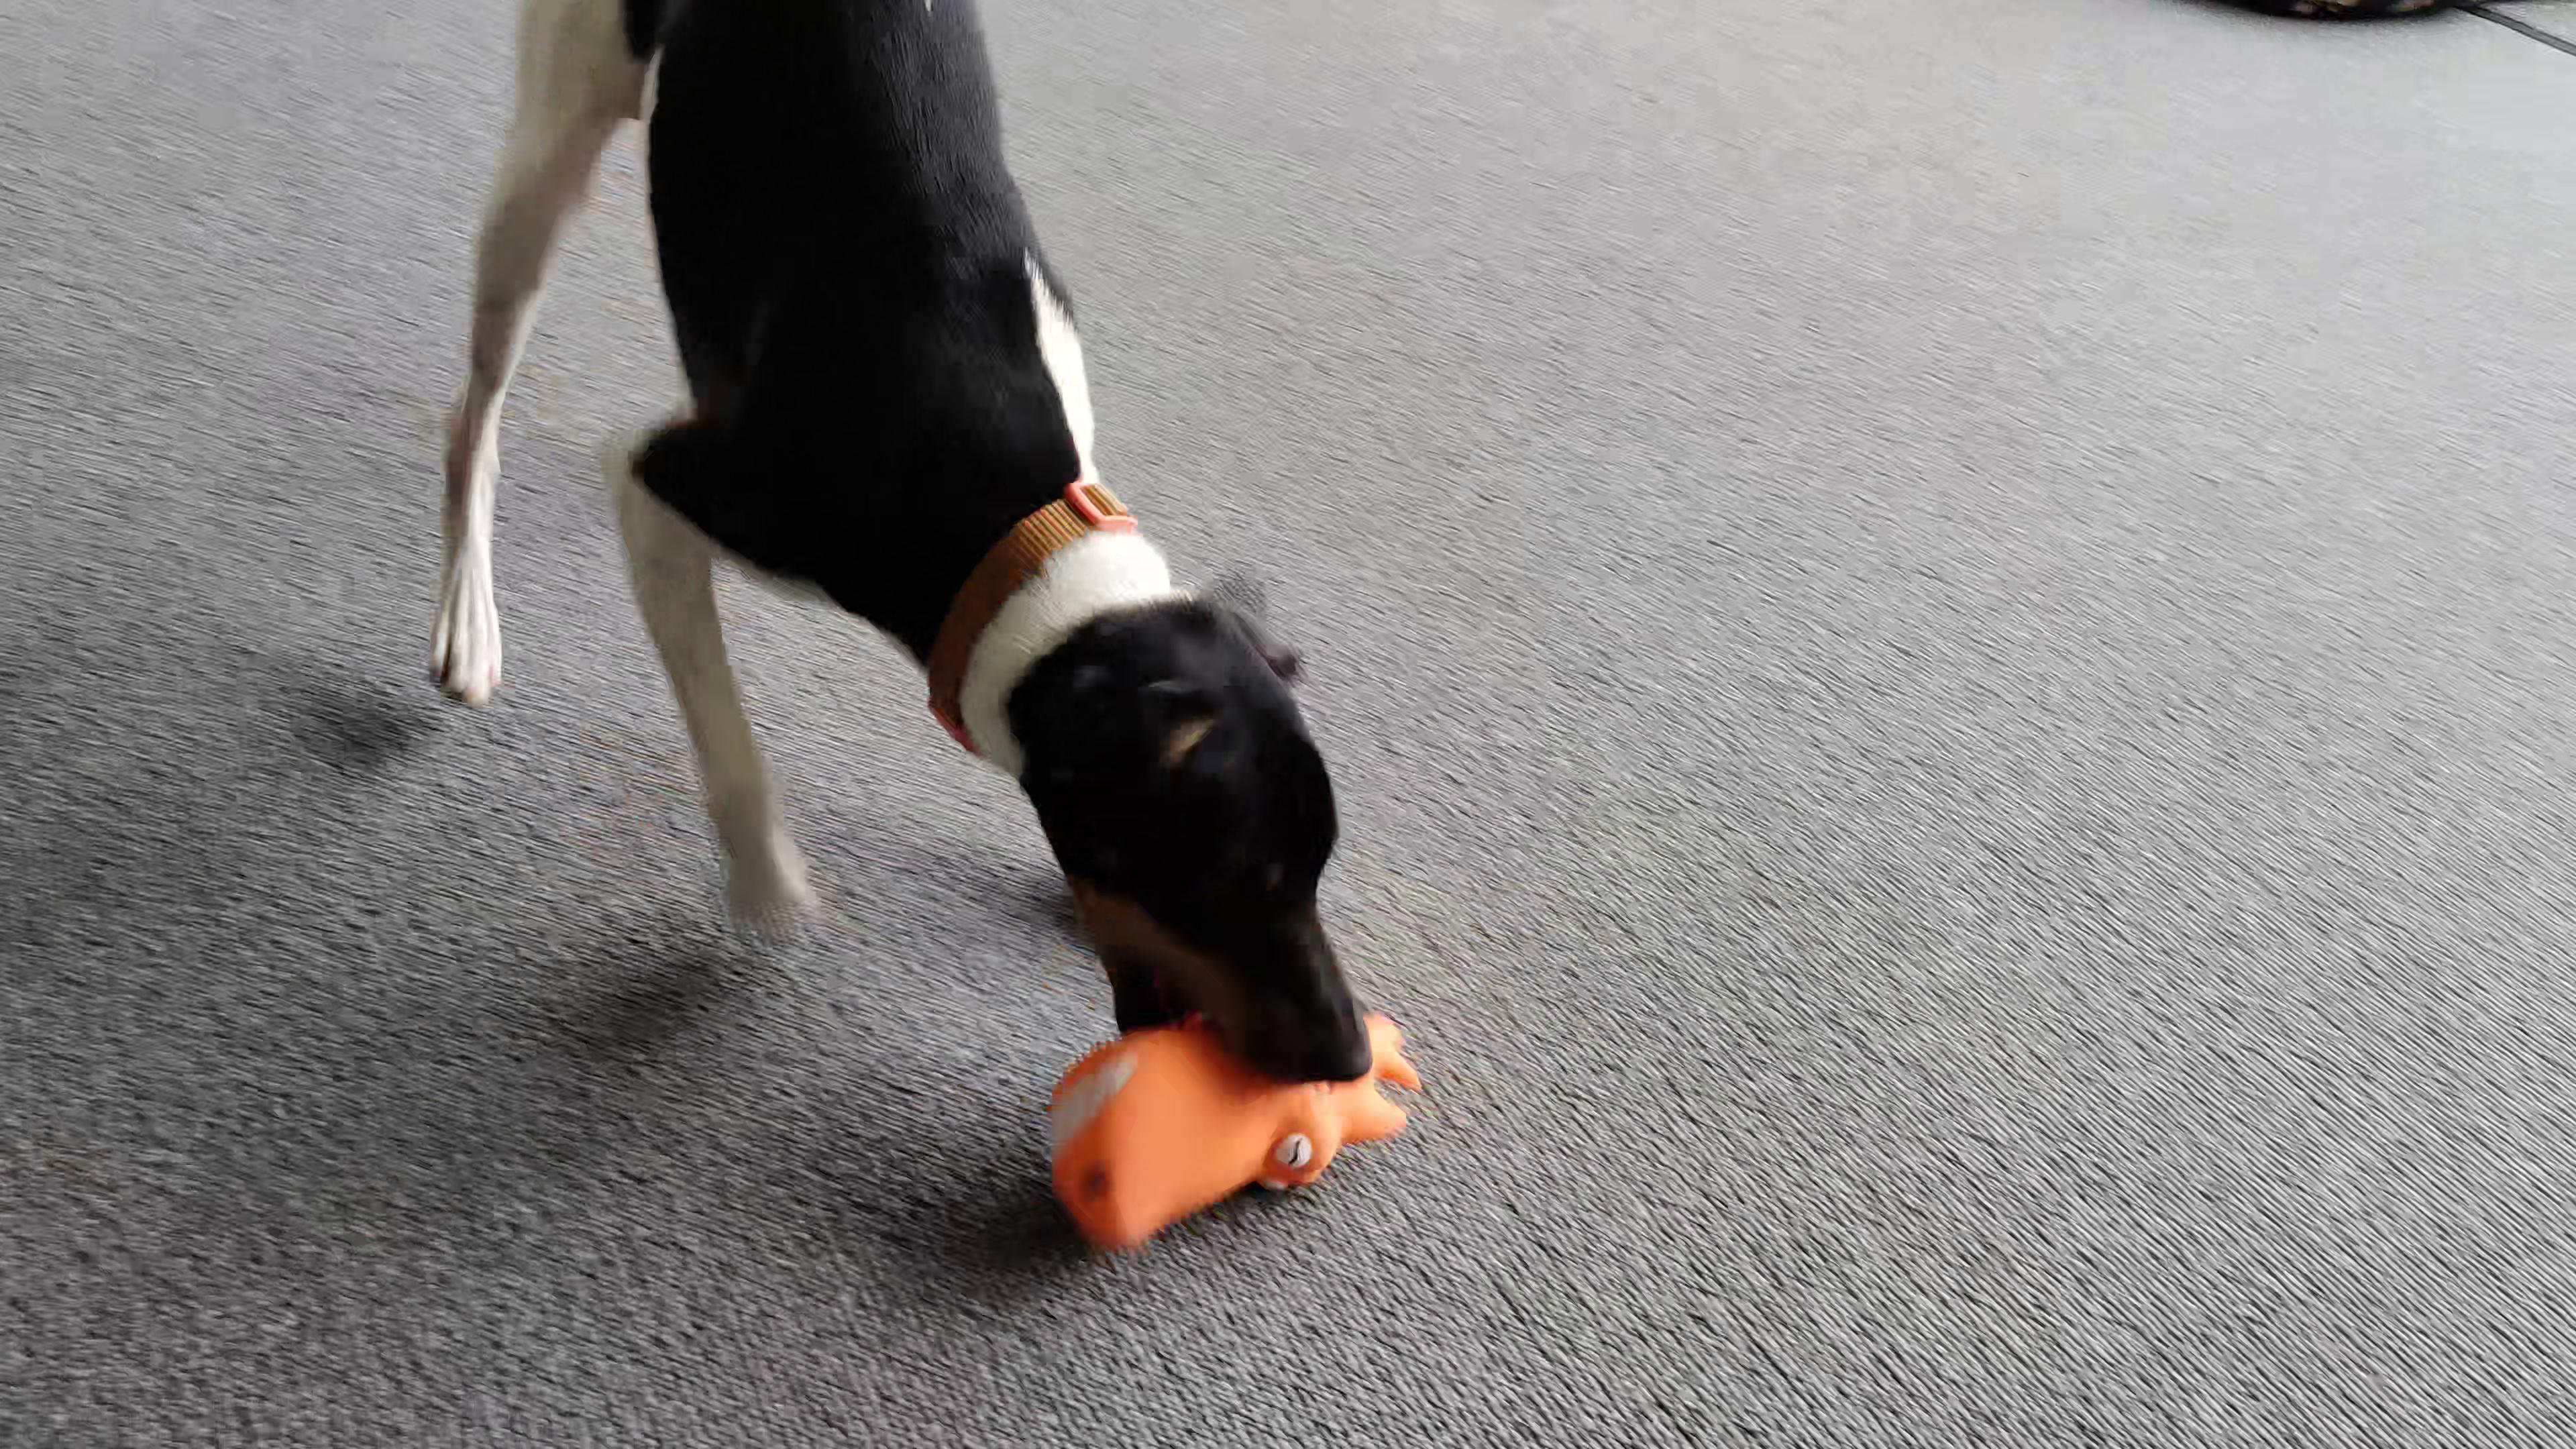Dog: (421, 0, 1382, 1111)
